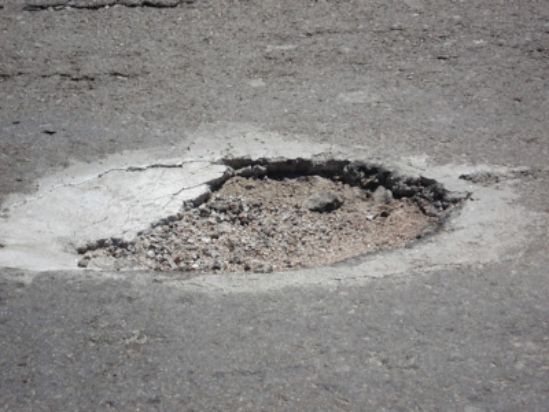pothole: (73, 144, 468, 289)
